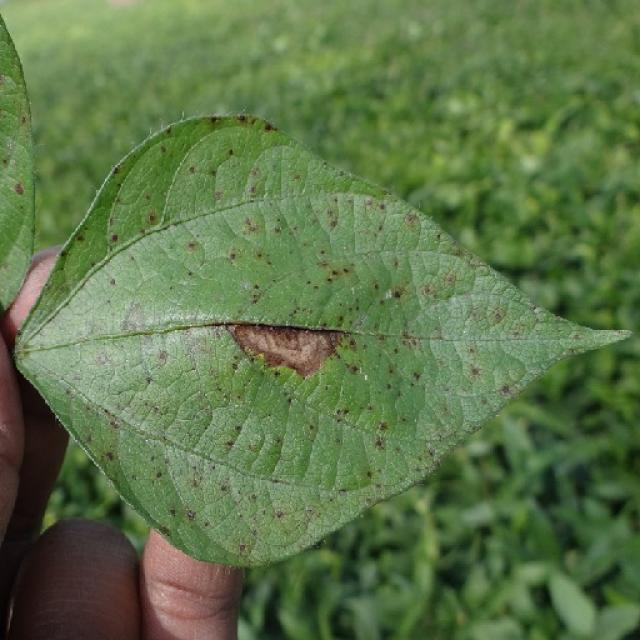Anthracnose: (218, 317, 355, 380), (165, 112, 288, 151), (197, 322, 364, 340), (454, 294, 512, 331), (0, 416, 25, 474), (9, 333, 49, 364), (315, 259, 354, 285), (121, 301, 149, 332), (19, 113, 31, 139), (268, 476, 286, 486), (14, 182, 25, 196), (185, 242, 199, 253), (469, 366, 481, 377), (500, 384, 511, 396), (392, 289, 402, 299), (148, 214, 157, 224), (110, 234, 119, 243), (76, 235, 84, 243)
Blackgram: (14, 115, 629, 564)
